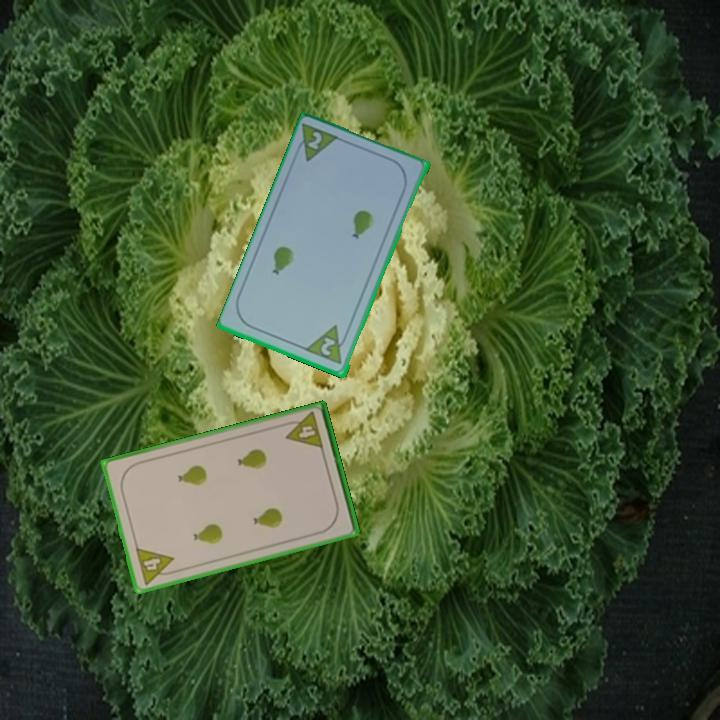2p: (317, 334, 339, 359), (304, 128, 325, 153)
4p: (132, 544, 180, 588), (280, 408, 326, 452)
